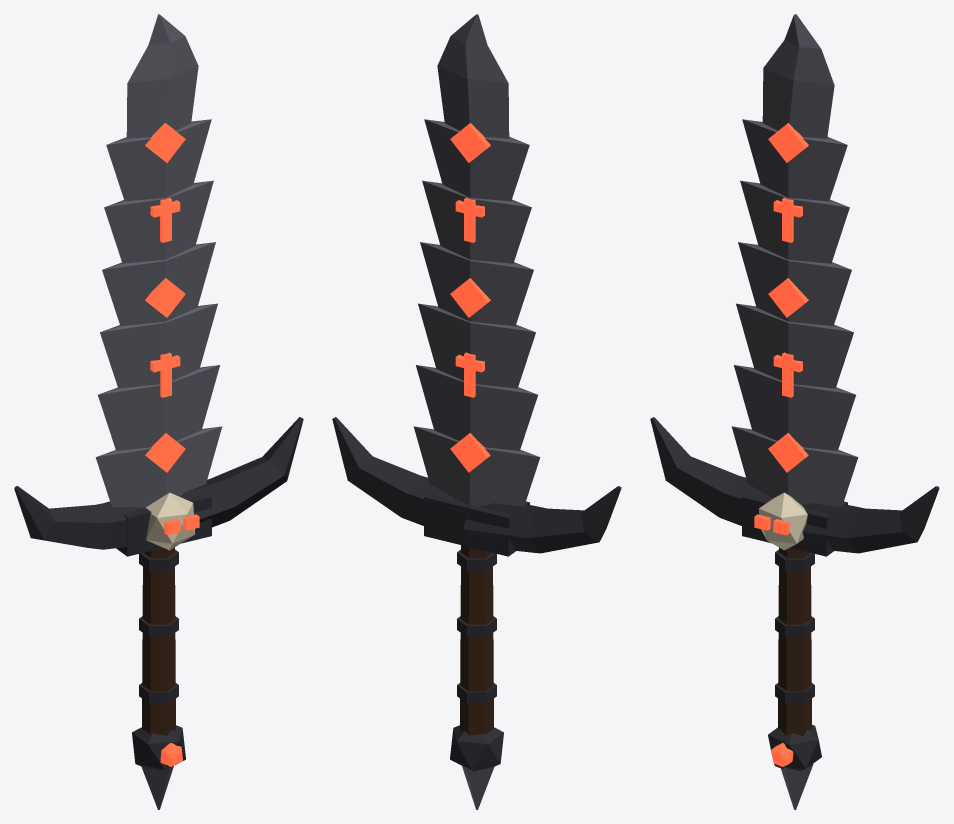
The model's file is Boss_Knight_Greatsword.fbx.
The picture shows the model from 3 angles, left to right: view 1: azimuth 30°, elevation 25°; view 2: azimuth 150°, elevation 25°; view 3: azimuth 330°, elevation 25°; orthographic projection.
Parts seen in each view (by area): view 1: Boss_Knight_Greatsword; view 2: Boss_Knight_Greatsword; view 3: Boss_Knight_Greatsword.
Boxes of the visible parts, x1,y1,x2,y2 form: Boss_Knight_Greatsword: (14, 14, 303, 809); Boss_Knight_Greatsword: (332, 14, 621, 809); Boss_Knight_Greatsword: (650, 14, 939, 809).
Size of the model in its own units: 0.5465 by 1.44 by 0.125.
